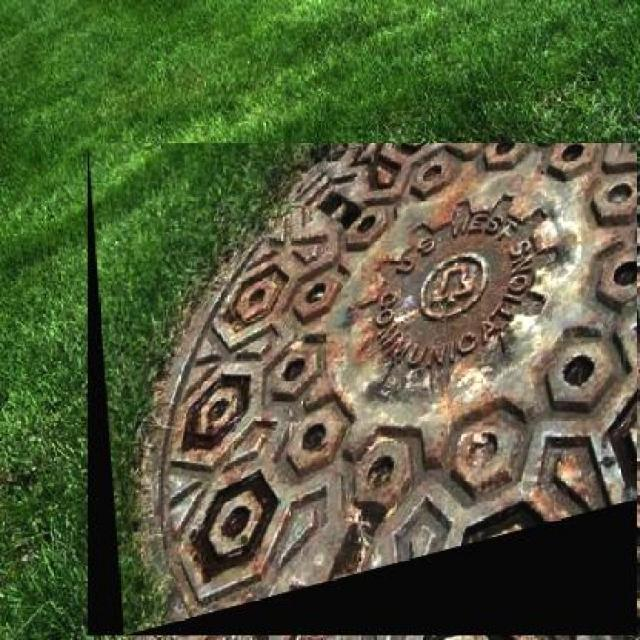Manhole: (89, 144, 638, 636)
